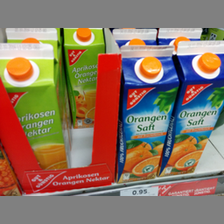juice: (159, 41, 224, 179), (1, 42, 69, 170), (119, 44, 180, 183), (64, 28, 105, 127)
